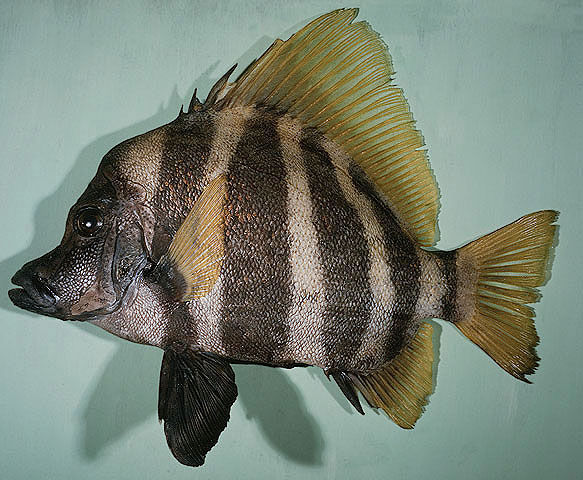fish: (9, 7, 562, 467)
